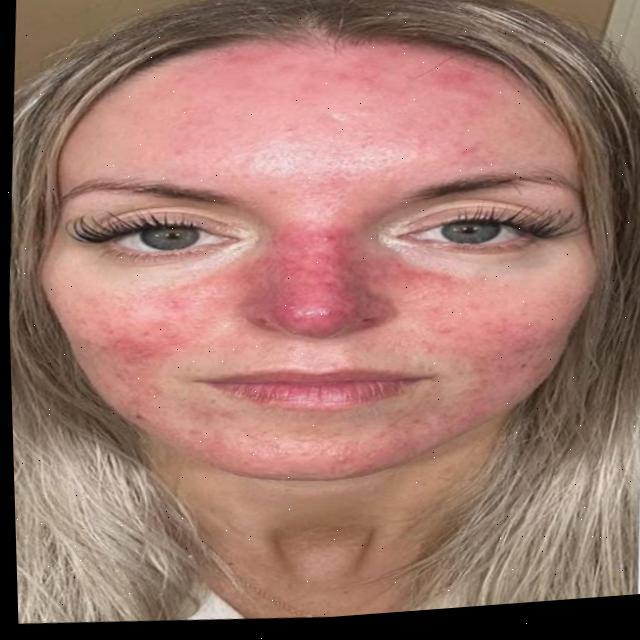Rosacea: (166, 13, 510, 207), (179, 391, 484, 491), (423, 252, 582, 435), (69, 258, 250, 406), (241, 207, 386, 345)
